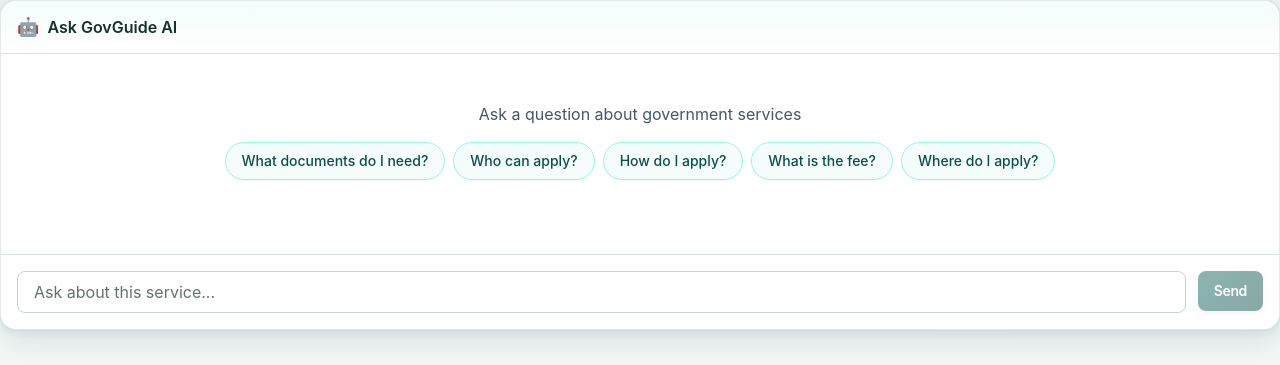
it: AiChat › shows the friendly fallback message when the network fails
Click the button "How do I apply?" at coordinates (673, 161), box [603,142,743,180]
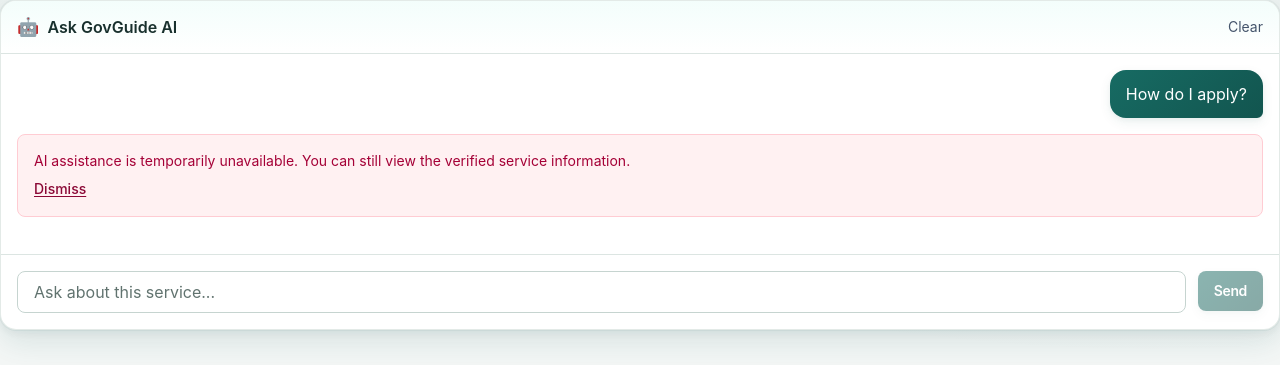
Check: the message does not show "Failed to fetch", box [17,134,1263,217]
Check: the message shows "AI assistance is temporarily unavailable", box [34,152,630,169]
Check: the message shows "verified service information", box [34,152,630,169]
// Dismiss removes the alert
Click the button "Dismiss" at coordinates (60, 189), box [34,179,86,199]
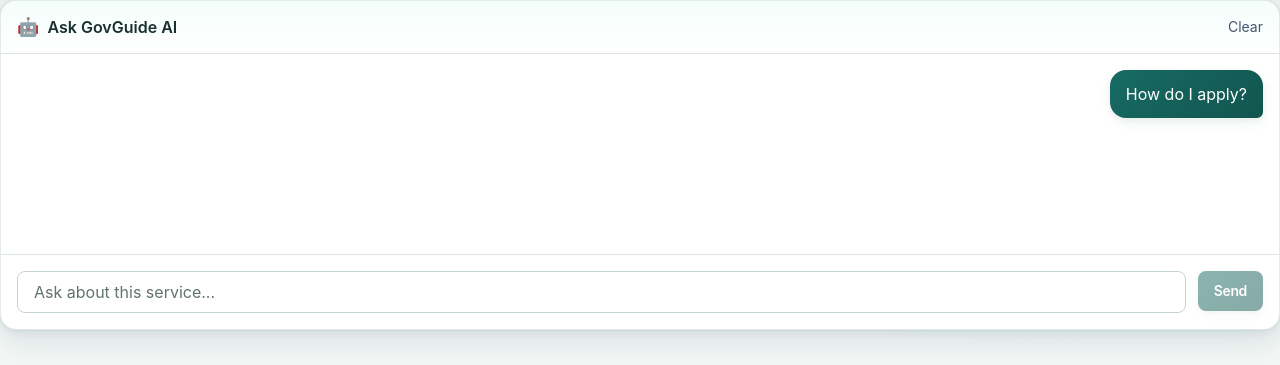
Check: the message is gone
